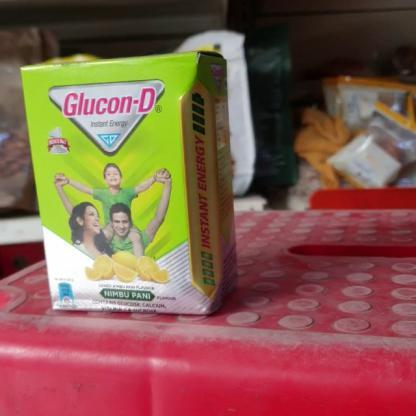Glucon D Nimbu Pani 1-KG: (35, 58, 192, 314)
